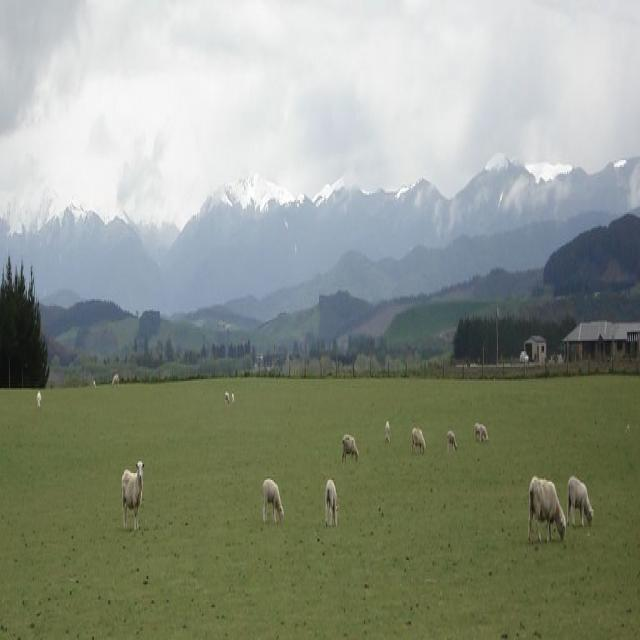Sheep: (528, 482, 564, 543), (122, 458, 143, 536), (568, 479, 594, 532), (263, 477, 285, 530), (327, 482, 338, 530), (411, 429, 425, 456), (343, 432, 358, 456), (448, 432, 458, 452), (481, 427, 488, 445), (476, 419, 478, 438)
